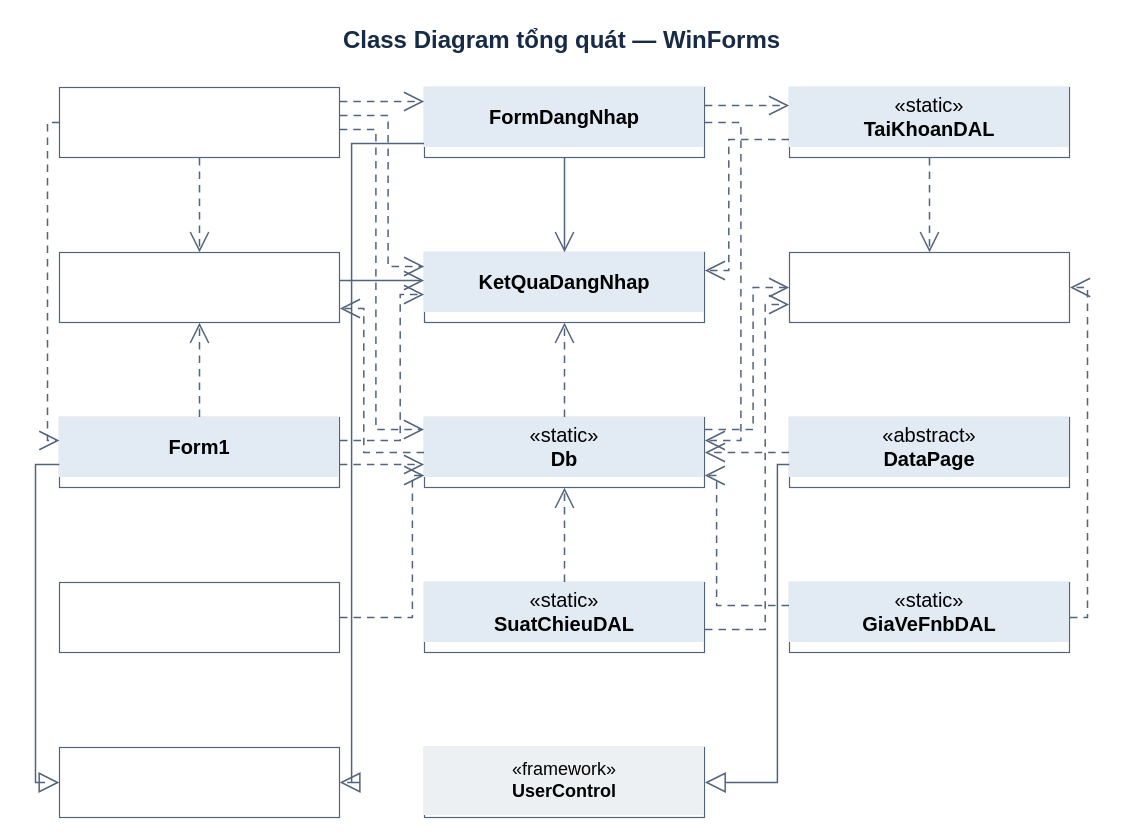
Some shapes in this 1125 by 835 pixel diagram are drawn without their labels. The centre of each missing label's shape, as x and y in pixels:
"«framework» Form" goes at point (199, 782).
"«static» CauHinh" goes at point (929, 287).
"«static» GiaoDichDAL" goes at point (199, 617).
"«static» PhienDangNhap" goes at point (199, 287).
"«static» Program" goes at point (199, 122).
